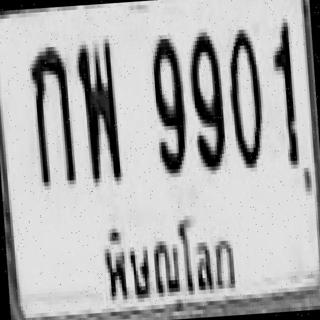A01: (27, 42, 75, 186)
A30: (74, 37, 120, 181)
N00: (222, 25, 264, 165)
N01: (268, 18, 297, 165)
N09: (185, 28, 225, 168), (147, 34, 187, 174)
P46: (96, 205, 246, 319)
